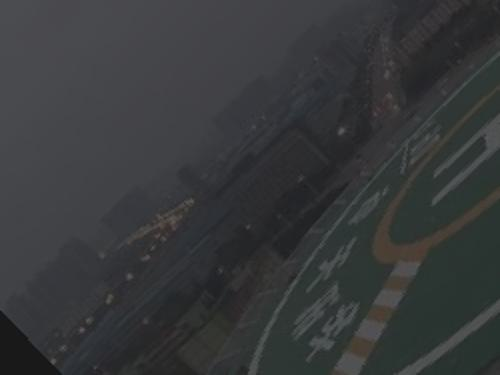Apron: (364, 71, 500, 265)
